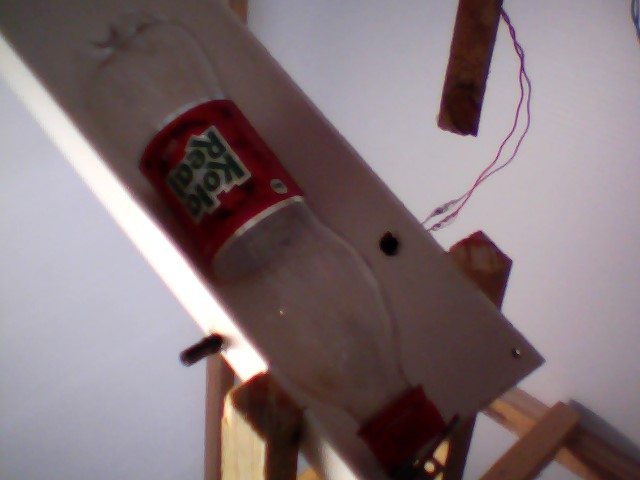plastico: (57, 7, 448, 473)
